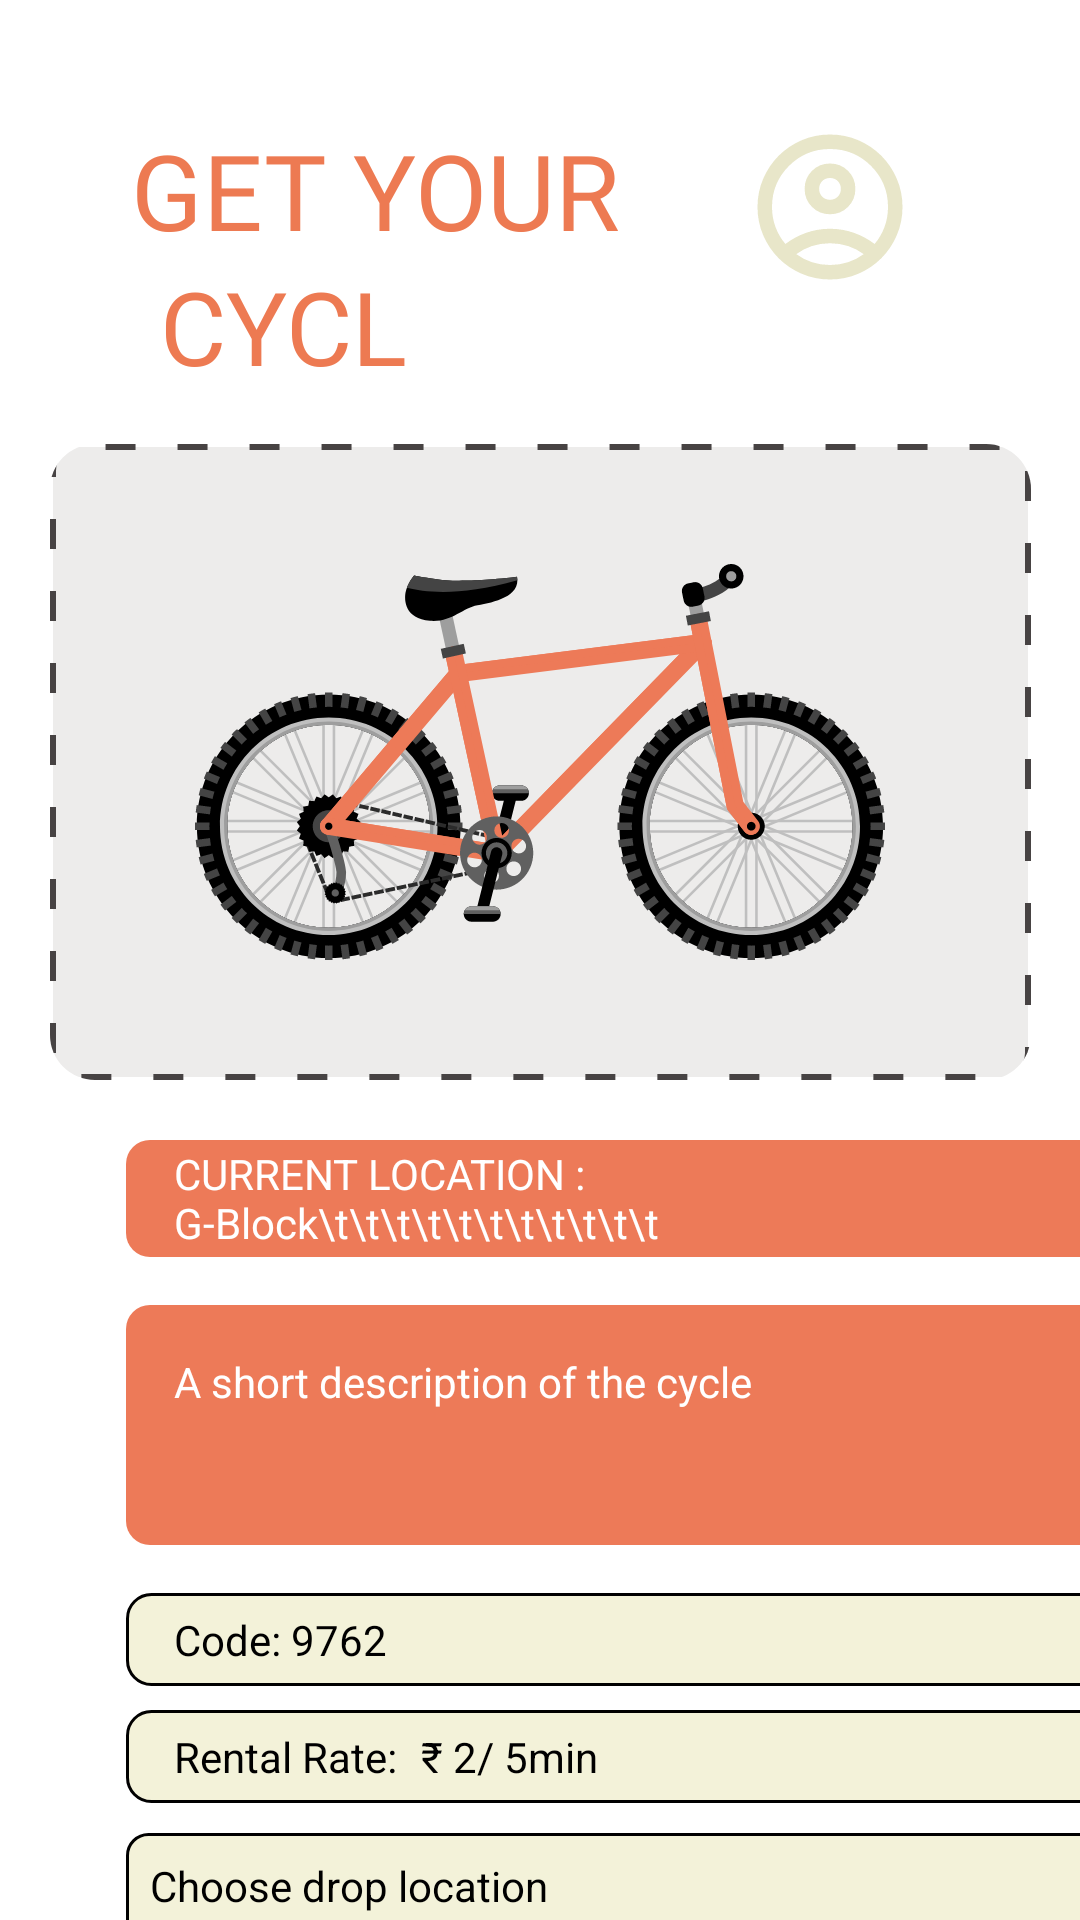

Where icons sit on this 1080 × 1920 app screen, as (x1, y1, x2, y2):
Profile Icon: (757, 134, 903, 280)
